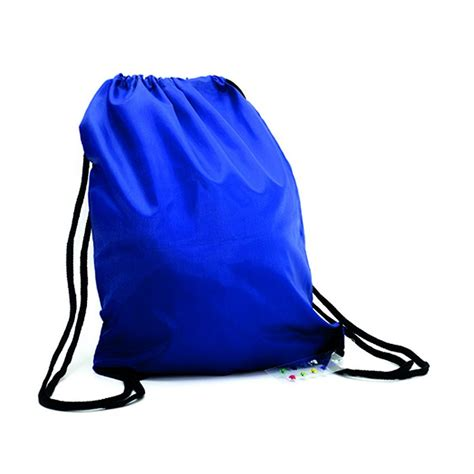nylon: (78, 71, 345, 381)
